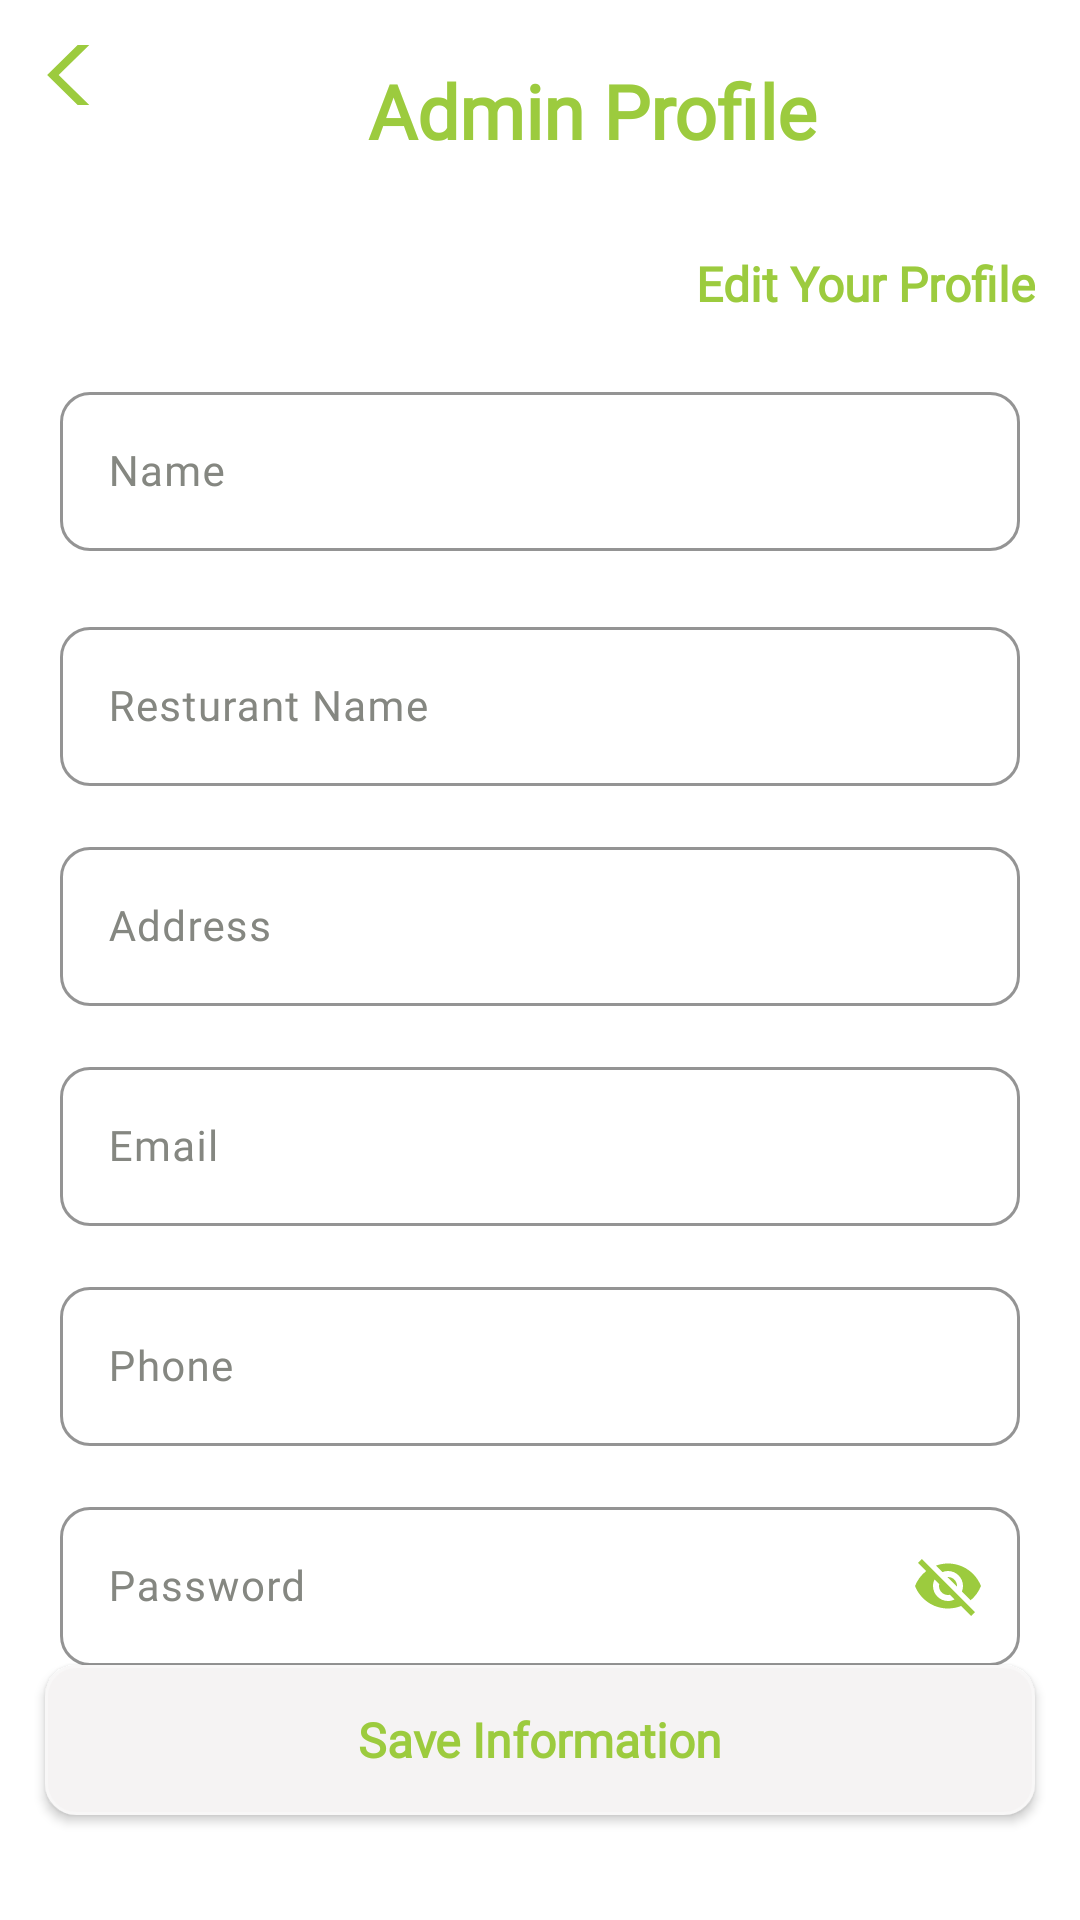

Icon bounding boxes for this 1080x1920 phone screenshot, format {"left": x1, "top": y1, "right": x2, "bottom": y2}:
backarrow: {"left": 47, "top": 45, "right": 89, "bottom": 105}
